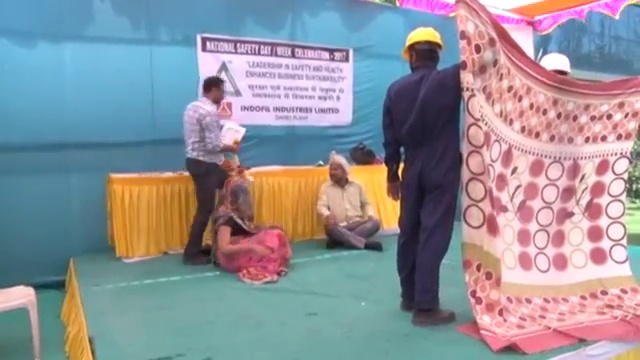helmet: (402, 25, 445, 56), (536, 51, 573, 76)
helmet_off: (221, 174, 247, 204), (201, 74, 225, 103), (327, 152, 347, 181)
helmet_on: (401, 24, 445, 71)
person: (383, 26, 464, 327), (214, 175, 292, 283), (182, 74, 224, 265), (316, 152, 384, 256)
